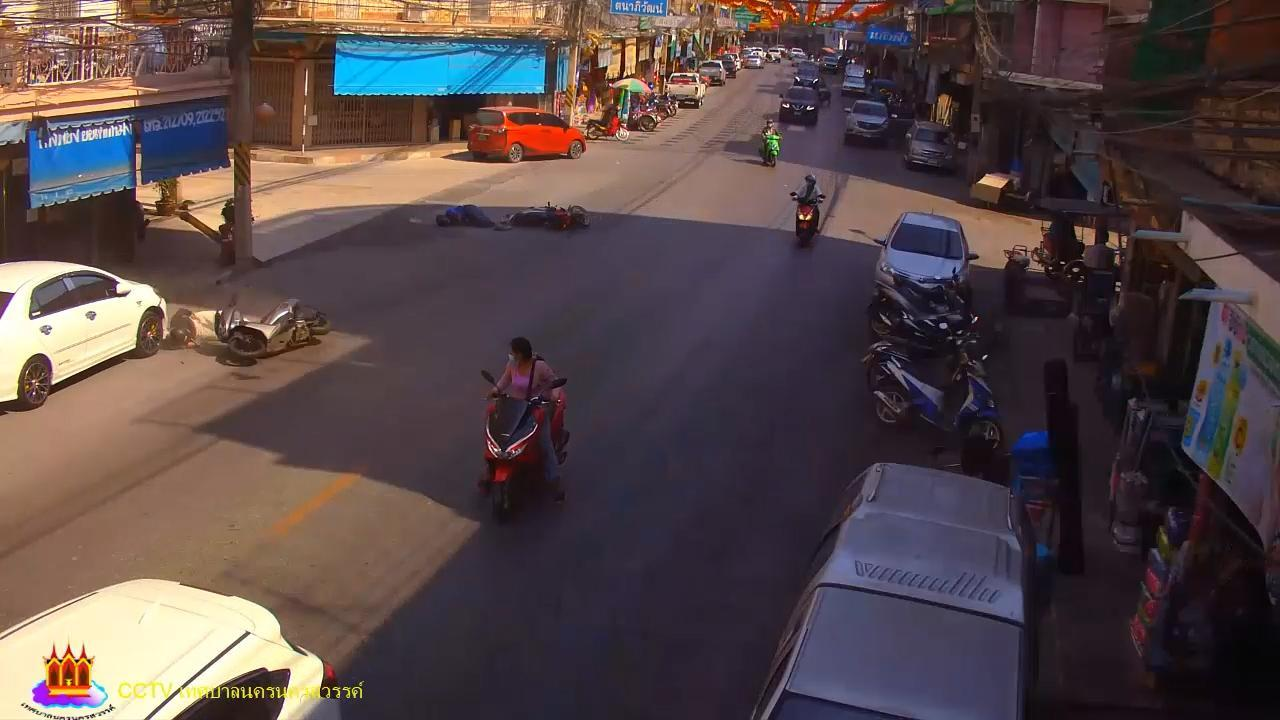accident: (421, 199, 509, 232)
